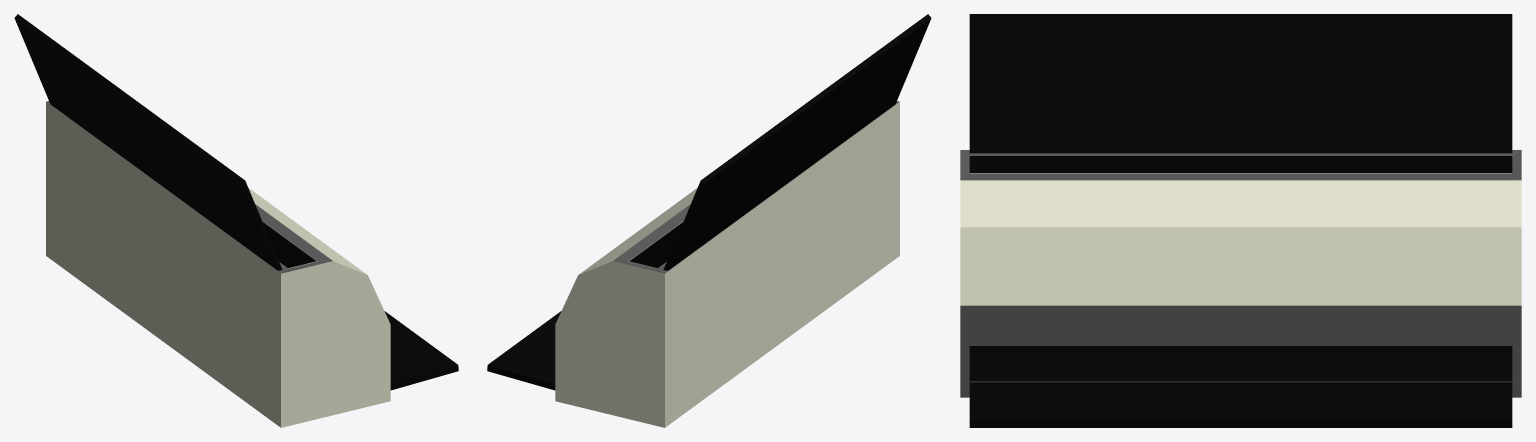
Rendered from Computer_Printer.fbx.
The picture shows the model from 3 angles, left to right: view 1: azimuth 30°, elevation 25°; view 2: azimuth 150°, elevation 25°; view 3: azimuth 270°, elevation 25°; orthographic projection. The views are drawn at different scales.
Parts seen in each view (by area): view 1: Computer_Printer; view 2: Computer_Printer; view 3: Computer_Printer.
Part boxes in pixels (x1=…): Computer_Printer: x1=14, y1=14, x2=458, y2=427; Computer_Printer: x1=487, y1=14, x2=931, y2=427; Computer_Printer: x1=960, y1=14, x2=1521, y2=427.
Bounding box in the file's own units: 39.93 × 44.45 × 75.
